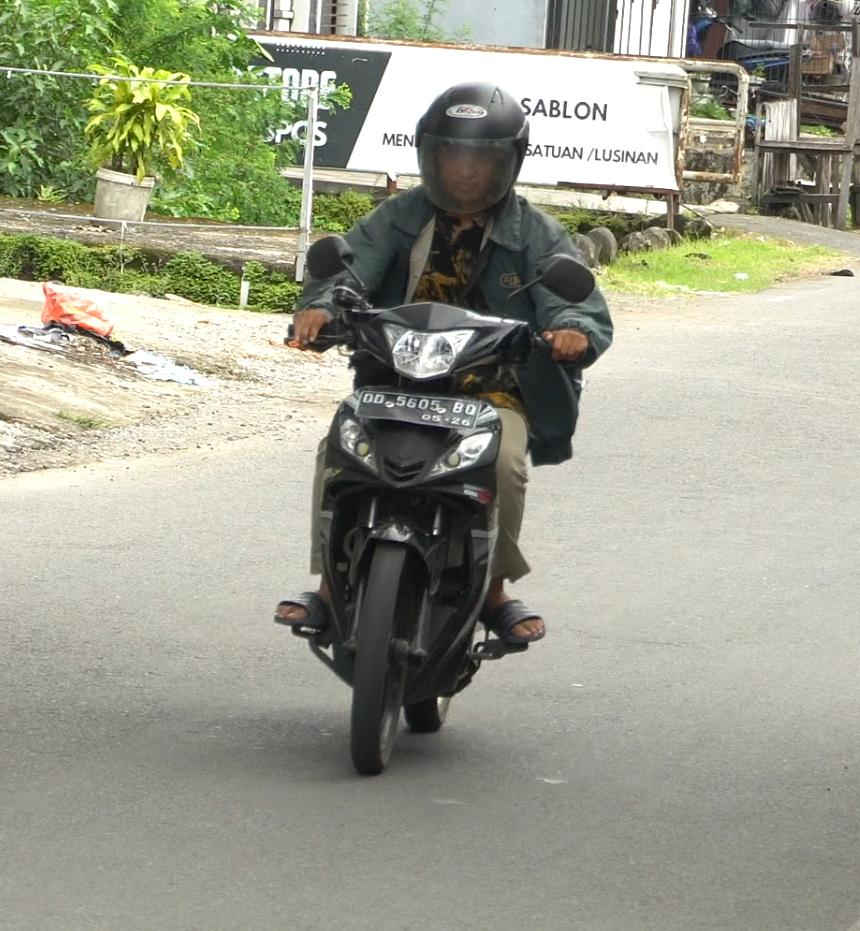number-plate: (353, 389, 486, 434)
